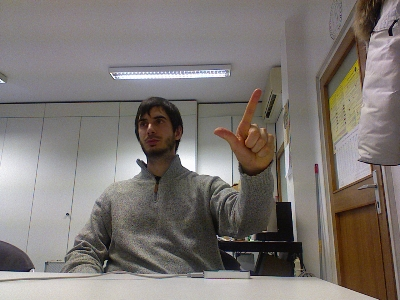枪: (212, 86, 276, 171)
